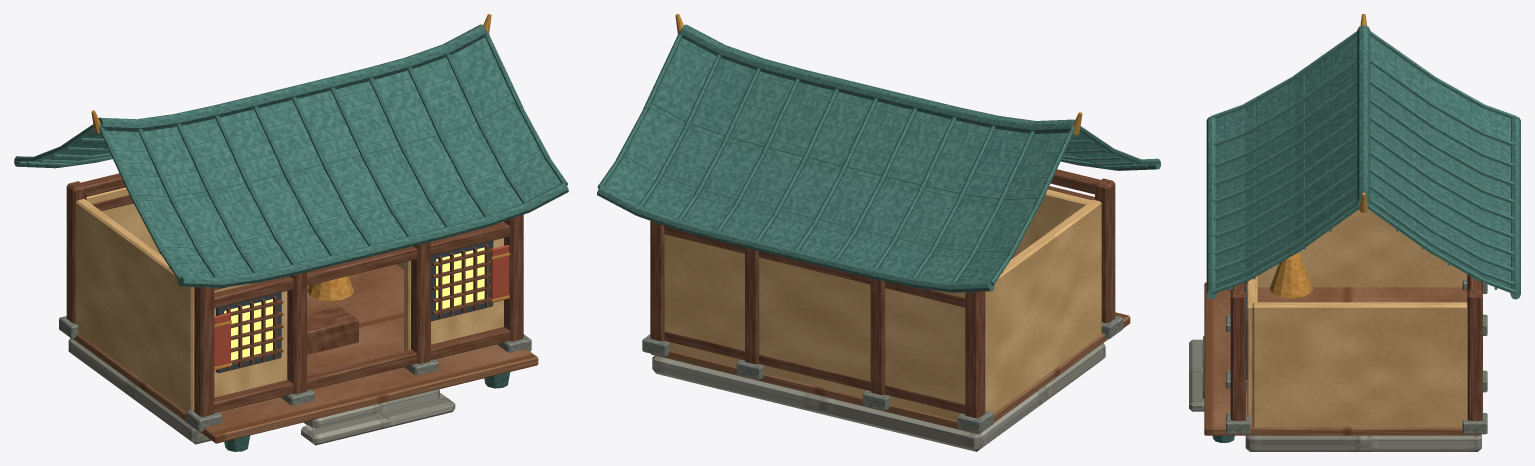
File: crescent_shrine.gltf
The picture shows the model from 3 angles, left to right: view 1: azimuth 30°, elevation 25°; view 2: azimuth 150°, elevation 25°; view 3: azimuth 270°, elevation 25°; orthographic projection. The views are drawn at different scales.
Parts seen in each view (by area): view 1: crescent_shrine; view 2: crescent_shrine; view 3: crescent_shrine.
Boxes of the visible parts, x1,y1,x2,y2 form: crescent_shrine: (14, 14, 568, 451); crescent_shrine: (597, 14, 1160, 451); crescent_shrine: (1189, 14, 1520, 451).
Size of the model in its own units: 8.27 by 5.9 by 6.4.
Materials: 10 (7 with a texture image).
